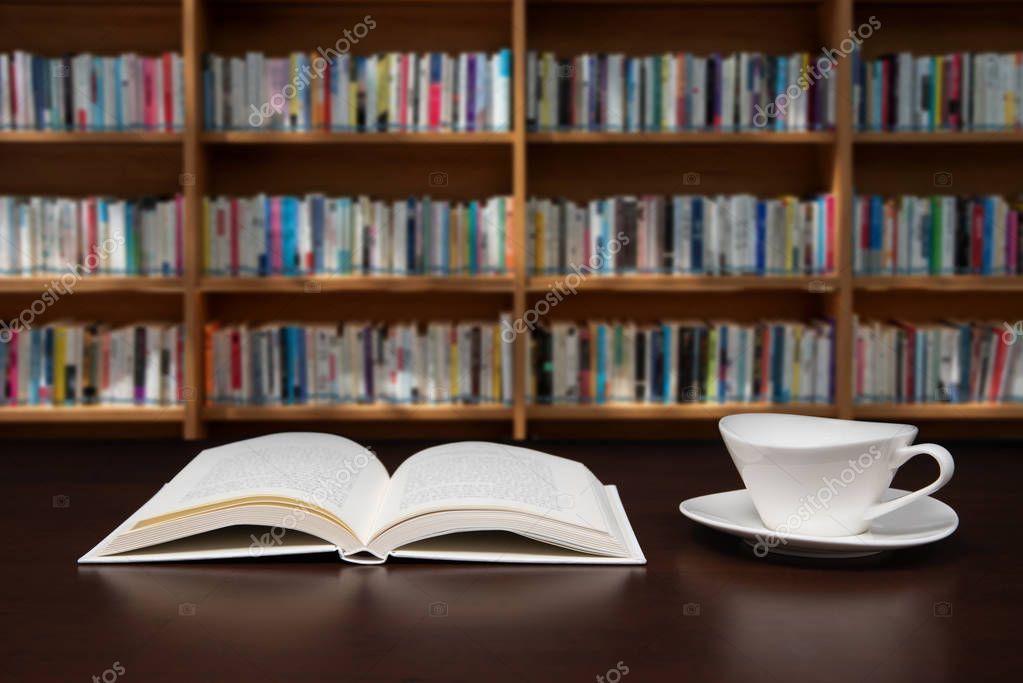Open Book: (86, 428, 652, 586)
